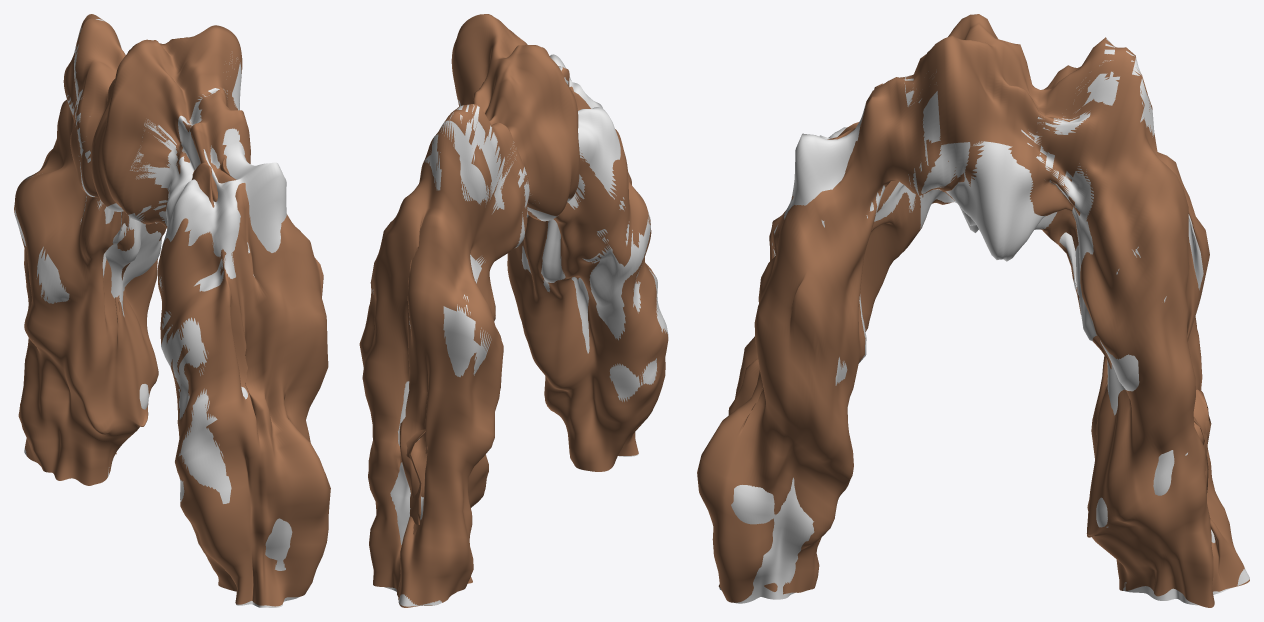
File: arch2.fbx
3 renders of one model, left to right at view 1: azimuth 30°, elevation 25°; view 2: azimuth 150°, elevation 25°; view 3: azimuth 270°, elevation 25°, orthographic. The views are drawn at different scales.
Visible parts, largest first — view 1: Torus.001, Torus.002; view 2: Torus.001, Torus.002; view 3: Torus.001, Torus.002.
Boxes of the visible parts, x1=… form: Torus.001: x1=14, y1=14, x2=330, y2=606; Torus.002: x1=14, y1=19, x2=299, y2=607; Torus.001: x1=359, y1=14, x2=668, y2=607; Torus.002: x1=372, y1=54, x2=668, y2=606; Torus.001: x1=697, y1=14, x2=1249, y2=607; Torus.002: x1=719, y1=38, x2=1249, y2=605.
Bounding box in the file's own units: 96.21 × 300 × 262.
